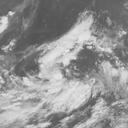cyclone: (39, 22, 111, 98)
